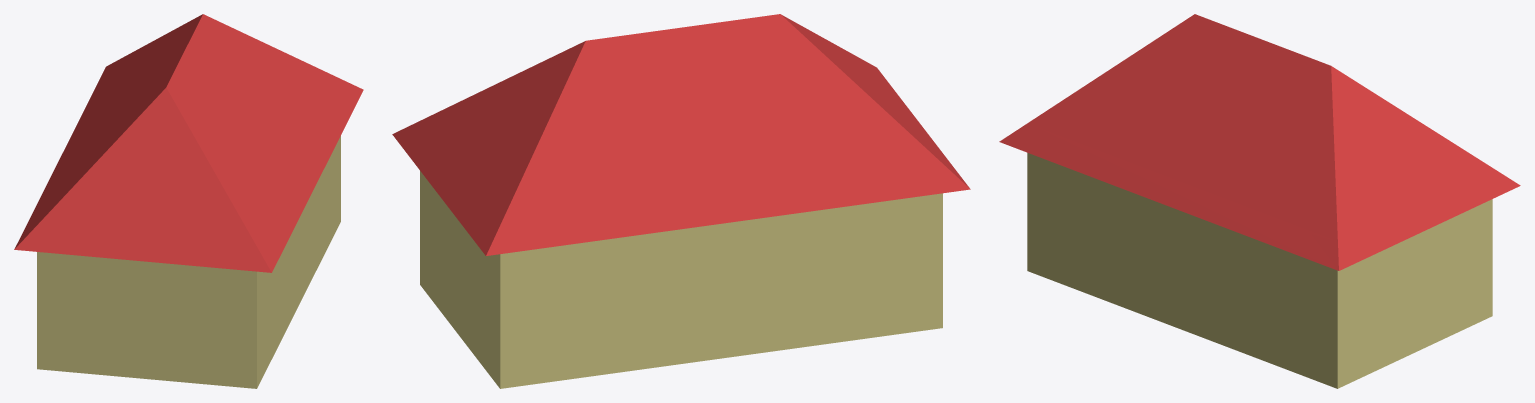
3 renders of one model, left to right at view 1: azimuth 30°, elevation 25°; view 2: azimuth 150°, elevation 25°; view 3: azimuth 270°, elevation 25°, orthographic. The views are drawn at different scales.
Bounding box in the file's own units: 19.12 × 19.65 × 10.48.
